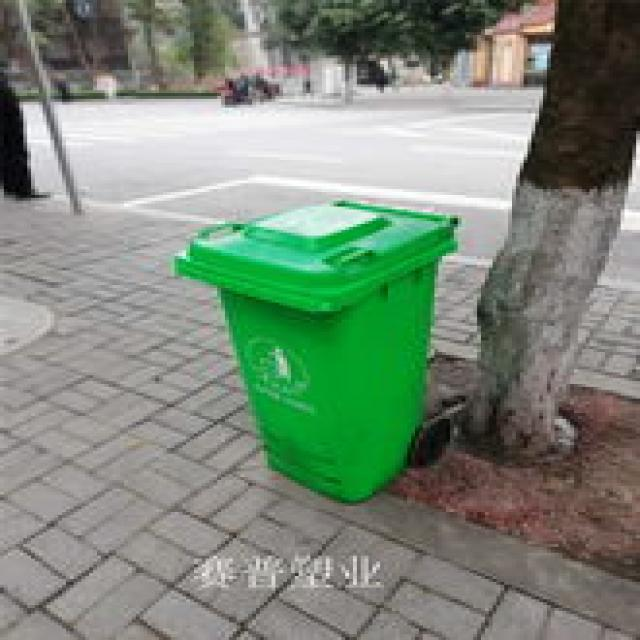garbage_bin: (170, 198, 454, 500)
